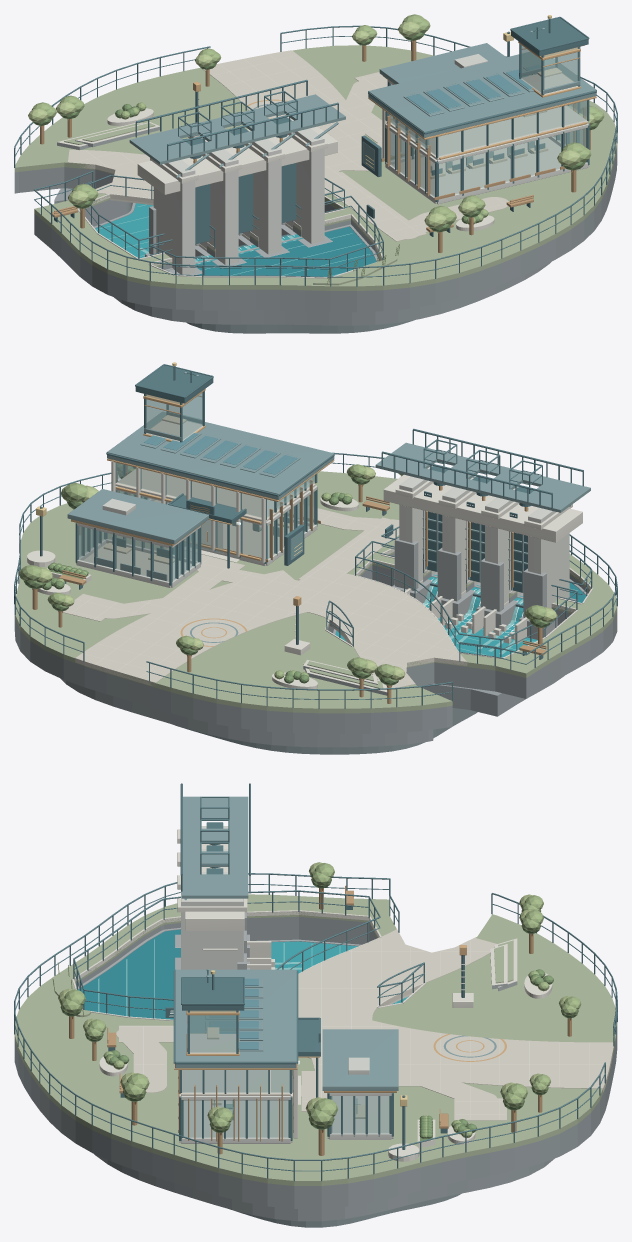
The model's file is flood-control-g.glb.
The picture shows the model from 3 angles, top to bottom: view 1: azimuth 30°, elevation 25°; view 2: azimuth 150°, elevation 25°; view 3: azimuth 270°, elevation 25°; orthographic projection. The views are drawn at different scales.
Parts seen in each view (by area): view 1: Terrain_Foundation_Components__green, Terrain_Foundation_Components__rock, Terrain_Foundation_Components__floor, Triple_Sluice_Mechanics_Components__concrete, Command_Centre_Components__steel_lite, Walkways_Railings_Components__steel, Command_Centre_Components__glass2, Command_Centre_Components__floor, Triple_Sluice_Mechanics_Components__steel_lite, Command_Centre_Components__steel, Triple_Sluice_Mechanics_Components__steel, Hydraulic_Water_Components__water_upper (+28 smaller); view 2: Terrain_Foundation_Components__green, Terrain_Foundation_Components__floor, Terrain_Foundation_Components__rock, Command_Centre_Components__steel_lite, Walkways_Railings_Components__steel, Command_Centre_Components__steel, Command_Centre_Components__glass2, Triple_Sluice_Mechanics_Components__concrete2, Triple_Sluice_Mechanics_Components__steel_lite, Triple_Sluice_Mechanics_Components__concrete, Triple_Sluice_Mechanics_Components__concrete_shadow, Command_Centre_Components__floor (+26 smaller); view 3: Terrain_Foundation_Components__green, Terrain_Foundation_Components__floor, Terrain_Foundation_Components__rock, Command_Centre_Components__steel_lite, Walkways_Railings_Components__steel, Command_Centre_Components__glass, Command_Centre_Components__floor, Triple_Sluice_Mechanics_Components__steel_lite, Command_Centre_Components__steel, Hydraulic_Water_Components__water_upper, Riparian_Landscape_Components__leaf2, Triple_Sluice_Mechanics_Components__concrete (+18 smaller).
Boxes of the visible parts, bbox=[...] form: Terrain_Foundation_Components__green: bbox=[14, 45, 617, 290]; Terrain_Foundation_Components__rock: bbox=[14, 145, 617, 325]; Terrain_Foundation_Components__floor: bbox=[68, 50, 508, 241]; Triple_Sluice_Mechanics_Components__concrete: bbox=[153, 118, 324, 274]; Command_Centre_Components__steel_lite: bbox=[368, 43, 596, 137]; Walkways_Railings_Components__steel: bbox=[14, 25, 617, 286]; Command_Centre_Components__glass2: bbox=[362, 84, 587, 196]; Command_Centre_Components__floor: bbox=[387, 105, 588, 196]; Triple_Sluice_Mechanics_Components__steel_lite: bbox=[129, 94, 345, 178]; Command_Centre_Components__steel: bbox=[368, 18, 596, 201]; Triple_Sluice_Mechanics_Components__steel: bbox=[135, 79, 338, 256]; Hydraulic_Water_Components__water_upper: bbox=[167, 226, 376, 276]; Terrain_Foundation_Components__green: bbox=[15, 471, 617, 713]; Terrain_Foundation_Components__floor: bbox=[63, 504, 467, 687]; Terrain_Foundation_Components__rock: bbox=[14, 553, 617, 747]; Command_Centre_Components__steel_lite: bbox=[67, 412, 334, 580]; Walkways_Railings_Components__steel: bbox=[14, 439, 617, 708]; Command_Centre_Components__steel: bbox=[75, 365, 334, 585]; Command_Centre_Components__glass2: bbox=[78, 462, 313, 581]; Triple_Sluice_Mechanics_Components__concrete2: bbox=[383, 474, 582, 644]; Triple_Sluice_Mechanics_Components__steel_lite: bbox=[375, 442, 590, 592]; Triple_Sluice_Mechanics_Components__concrete: bbox=[399, 465, 569, 608]; Triple_Sluice_Mechanics_Components__concrete_shadow: bbox=[392, 537, 576, 639]; Command_Centre_Components__floor: bbox=[83, 469, 315, 580]; Terrain_Foundation_Components__green: bbox=[14, 894, 617, 1185]; Terrain_Foundation_Components__floor: bbox=[116, 929, 613, 1120]; Terrain_Foundation_Components__rock: bbox=[14, 916, 617, 1221]; Command_Centre_Components__steel_lite: bbox=[175, 969, 398, 1090]; Walkways_Railings_Components__steel: bbox=[14, 796, 617, 1181]; Command_Centre_Components__glass: bbox=[183, 1070, 389, 1137]; Command_Centre_Components__floor: bbox=[181, 1070, 389, 1136]; Triple_Sluice_Mechanics_Components__steel_lite: bbox=[181, 796, 248, 900]; Command_Centre_Components__steel: bbox=[173, 970, 393, 1140]; Hydraulic_Water_Components__water_upper: bbox=[78, 929, 180, 1019]; Riparian_Landscape_Components__leaf2: bbox=[53, 863, 581, 1138]; Triple_Sluice_Mechanics_Components__concrete: bbox=[181, 826, 243, 969].
Size of the model in its own units: 38.89 by 16.72 by 34.55.
